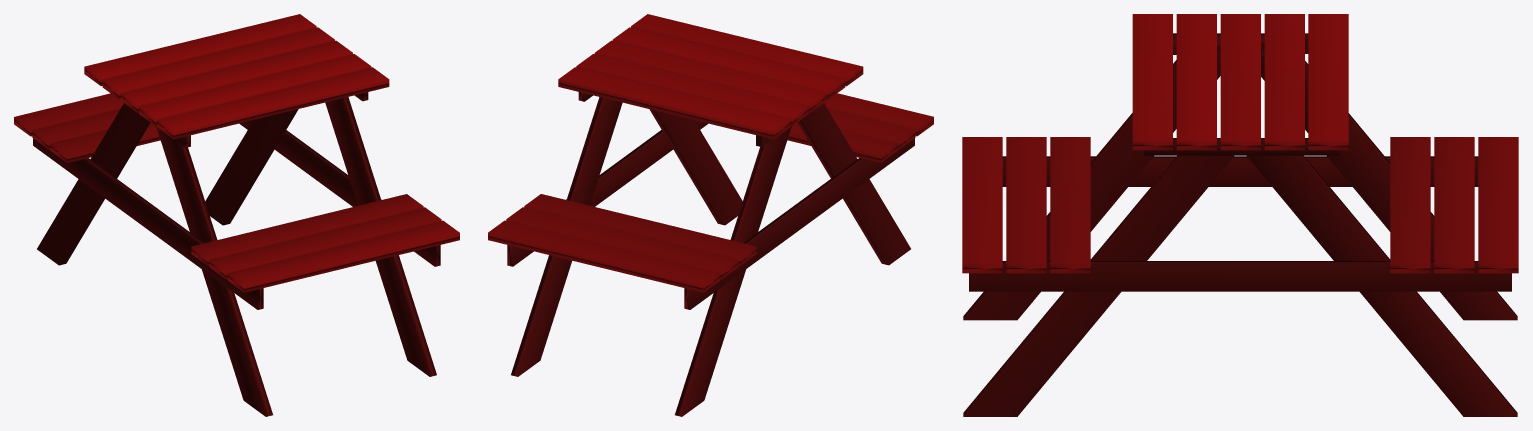
File: PicnicTable.glb
3 views of the same model, side by side, from view 1: azimuth 30°, elevation 25°; view 2: azimuth 150°, elevation 25°; view 3: azimuth 270°, elevation 25° (orthographic). The views are drawn at different scales.
Parts seen in each view (by area): view 1: PicnicTable; view 2: PicnicTable; view 3: PicnicTable.
Boxes of the visible parts, x1=… form: PicnicTable: x1=14, y1=14, x2=459, y2=416; PicnicTable: x1=488, y1=14, x2=933, y2=416; PicnicTable: x1=962, y1=14, x2=1518, y2=416.
Bounding box in the file's own units: 3.9 × 4.13 × 7.21.
